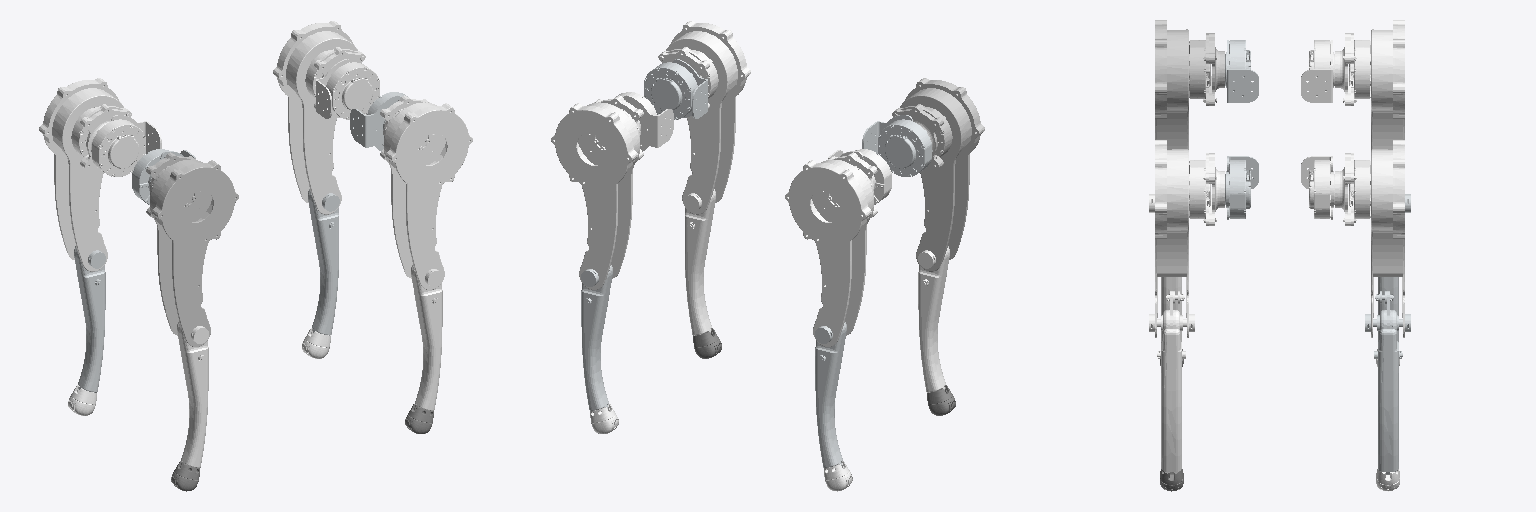
robot.urdf — wblwbl_dog:
<?xml version="1.0" encoding="utf-8"?>
<!-- This URDF was automatically created by SolidWorks to URDF Exporter! Originally created by Stephen Brawner (brawner@gmail.com) 
     Commit Version: 1.6.0-4-g7f85cfe  Build Version: 1.6.7995.38578
     For more information, please see http://wiki.ros.org/sw_urdf_exporter -->
<robot
  name="wblwbl_dog">
  <link
    name="base_link">
    <inertial>
      <origin
        xyz="0.01584611 -0.0003021 0.00277104"
        rpy="0 0 0" />
      <mass
        value="5.85747708" />
      <inertia
        ixx="0.02258183"
        ixy="2.486E-05"
        ixz="-0.00737298"
        iyy="0.10660366"
        iyz="1.041E-05"
        izz="0.11703202" />
    </inertial>
    <visual>
      <origin
        xyz="0 0 0"
        rpy="0 0 0" />
      <geometry>
        <mesh
          filename="package://wblwbl_dog/meshes/base_link.STL" />
      </geometry>
      <material
        name="">
        <color
          rgba="0.75294 0.75294 0.75294 1" />
      </material>
    </visual>
    <collision>
      <origin xyz="0 0 0" rpy="0 0 0" />
      <geometry>
        <box size="0.326 0.24 0.141" />
      </geometry>
    </collision>
  </link>
  <link
    name="RR_hip">
    <inertial>
      <origin
        xyz="-0.05994588 -0.01105683 -5.246E-05"
        rpy="0 0 0" />
      <mass
        value="0.58642659" />
      <inertia
        ixx="0.00039317"
        ixy="-1.51E-06"
        ixz="-1.08E-06"
        iyy="0.00074555"
        iyz="3.9E-07"
        izz="0.00046647" />
    </inertial>
    <visual>
      <origin
        xyz="0 0 0"
        rpy="0 0 0" />
      <geometry>
        <mesh
          filename="package://wblwbl_dog/meshes/RR_hip.STL" />
      </geometry>
      <material
        name="">
        <color
          rgba="0.89804 0.91765 0.92941 1" />
      </material>
    </visual>
  </link>
  <joint
    name="RR_hip_joint"
    type="revolute">
    <origin
      xyz="-0.166597524198868 -0.0600124680627662 -0.00150293992375414"
      rpy="0 0 0" />
    <parent
      link="base_link" />
    <child
      link="RR_hip" />
    <axis
      xyz="1 0 0" />
    <limit
      lower="-0.628318530718"
      upper="0.314159265359"
      effort="23.7"
      velocity="30" />
  </joint>
  <link
    name="RR_thigh">
    <inertial>
      <origin
        xyz="-0.00025108 0.00407954 -0.01846757"
        rpy="0 0 0" />
      <mass
        value="1.61753768" />
      <inertia
        ixx="0.00849013"
        ixy="7.54E-06"
        ixz="-0.00026516"
        iyy="0.00837118"
        iyz="-0.0007094"
        izz="0.00331292" />
    </inertial>
    <visual>
      <origin
        xyz="0 0 0"
        rpy="0 0 0" />
      <geometry>
        <mesh
          filename="package://wblwbl_dog/meshes/RR_thigh.STL" />
      </geometry>
      <material
        name="">
        <color
          rgba="0.84706 0.84706 0.84706 1" />
      </material>
    </visual>
    <collision>
      <origin xyz="0 -0.01145 -0.120006615" rpy="0 0 0" />
      <geometry>
        <box size="0.055 0.055 0.24" />
      </geometry>
    </collision>
  </link>
  <joint
    name="RR_thigh_joint"
    type="revolute">
    <origin
      xyz="-0.0642509054078564 -0.0953879542436499 1.87606477012603E-05"
      rpy="0 0 0" />
    <parent
      link="RR_hip" />
    <child
      link="RR_thigh" />
    <axis
      xyz="0 1 0" />
    <limit
      lower="-1.047197551197"
      upper="2.094395102393"
      effort="23.7"
      velocity="30" />
  </joint>
  <link
    name="RR_calf">
    <inertial>
      <origin
        xyz="0.00619037 0.00215666 -0.06686682"
        rpy="0 0 0" />
      <mass
        value="0.46592672" />
      <inertia
        ixx="0.00323637"
        ixy="9.8E-07"
        ixz="0.00012219"
        iyy="0.00324876"
        iyz="-7.98E-06"
        izz="0.00013713" />
    </inertial>
    <visual>
      <origin
        xyz="0 0 0"
        rpy="0 0 0" />
      <geometry>
        <mesh
          filename="package://wblwbl_dog/meshes/RR_calf.STL" />
      </geometry>
      <material
        name="">
        <color
          rgba="1 1 1 1" />
      </material>
    </visual>
    <collision>
      <origin xyz="-0.002326652 0.000946323 -0.133769394" rpy="0 0 0" />
      <geometry>
        <box size="0.034 0.034 0.262414" />
      </geometry>
    </collision>
  </link>
  <joint
    name="RR_calf_joint"
    type="revolute">
    <origin
      xyz="0 -0.0228999999999976 -0.240013230714059"
      rpy="0 0 0" />
    <parent
      link="RR_thigh" />
    <child
      link="RR_calf" />
    <axis
      xyz="0 1 0" />
    <limit
      lower="-2.775073510671"
      upper="0"
      effort="23.7"
      velocity="30" />
  </joint>
  <link
    name="RR_foot">
    <inertial>
      <origin
        xyz="-0.00614113 0.00019183 -0.01441826"
        rpy="0 0 0" />
      <mass
        value="0.056" />
      <inertia
        ixx="1.151E-05"
        ixy="-5E-08"
        ixz="1.1E-07"
        iyy="1.254E-05"
        iyz="-7E-08"
        izz="1.19E-05" />
    </inertial>
    <visual>
      <origin
        xyz="0 0 0"
        rpy="0 0 0" />
      <geometry>
        <mesh
          filename="package://wblwbl_dog/meshes/RR_foot.STL" />
      </geometry>
      <material
        name="">
        <color
          rgba="0.60392 0.60392 0.60392 1" />
      </material>
    </visual>
    <collision>
      <origin xyz="-0.005338821 0.000165131 -0.011726653" rpy="0 0 0" />
      <geometry>
        <sphere radius="0.023799986" />
      </geometry>
    </collision>
  </link>
  <joint
    name="RR_foot_joint"
    type="fixed">
    <origin
      xyz="-0.00465330444584544 0.00189264586376695 -0.267538787010701"
      rpy="0 0 0" />
    <parent
      link="RR_calf" />
    <child
      link="RR_foot" />
    <axis
      xyz="0 0 0" />
  </joint>
  <link
    name="RL_hip">
    <inertial>
      <origin
        xyz="-0.05994581 0.01106056 -4.797E-05"
        rpy="0 0 0" />
      <mass
        value="0.58642659" />
      <inertia
        ixx="0.00039317"
        ixy="1.51E-06"
        ixz="-1.08E-06"
        iyy="0.00074555"
        iyz="-3.9E-07"
        izz="0.00046647" />
    </inertial>
    <visual>
      <origin
        xyz="0 0 0"
        rpy="0 0 0" />
      <geometry>
        <mesh
          filename="package://wblwbl_dog/meshes/RL_hip.STL" />
      </geometry>
      <material
        name="">
        <color
          rgba="1 1 1 1" />
      </material>
    </visual>
  </link>
  <joint
    name="RL_hip_joint"
    type="revolute">
    <origin
      xyz="-0.166597524198868 0.0600079051697488 -0.00150736560215664"
      rpy="0 0 0" />
    <parent
      link="base_link" />
    <child
      link="RL_hip" />
    <axis
      xyz="1 0 0" />
    <limit
      lower="-0.314159265359"
      upper="0.628318530718"
      effort="23.7"
      velocity="30" />
  </joint>
  <link
    name="RL_thigh">
    <inertial>
      <origin
        xyz="-0.00025671 -0.00407953 -0.01846638"
        rpy="0 0 0" />
      <mass
        value="1.61753764" />
      <inertia
        ixx="0.00849013"
        ixy="-7.54E-06"
        ixz="-0.00026516"
        iyy="0.00837118"
        iyz="0.0007094"
        izz="0.00331292" />
    </inertial>
    <visual>
      <origin
        xyz="0 0 0"
        rpy="0 0 0" />
      <geometry>
        <mesh
          filename="package://wblwbl_dog/meshes/RL_thigh.STL" />
      </geometry>
      <material
        name="">
        <color
          rgba="1 1 1 1" />
      </material>
    </visual>
    <collision>
      <origin xyz="0 0.01145 -0.120006017" rpy="0 0 0" />
      <geometry>
        <box size="0.055 0.055 0.24" />
      </geometry>
    </collision>
  </link>
  <joint
    name="RL_thigh_joint"
    type="revolute">
    <origin
      xyz="-0.0642452502913322 0.0953916725238376 2.19897083813536E-05"
      rpy="0 0 0" />
    <parent
      link="RL_hip" />
    <child
      link="RL_thigh" />
    <axis
      xyz="0 1 0" />
    <limit
      lower="-1.047197551197"
      upper="2.094395102393"
      effort="23.7"
      velocity="30" />
  </joint>
  <link
    name="RL_calf">
    <inertial>
      <origin
        xyz="0.00619037 -0.00215672 -0.06686682"
        rpy="0 0 0" />
      <mass
        value="0.46592672" />
      <inertia
        ixx="0.00323637"
        ixy="-9.8E-07"
        ixz="0.00012219"
        iyy="0.00324876"
        iyz="7.97E-06"
        izz="0.00013713" />
    </inertial>
    <visual>
      <origin
        xyz="0 0 0"
        rpy="0 0 0" />
      <geometry>
        <mesh
          filename="package://wblwbl_dog/meshes/RL_calf.STL" />
      </geometry>
      <material
        name="">
        <color
          rgba="0.89804 0.91765 0.92941 1" />
      </material>
    </visual>
    <collision>
      <origin xyz="-0.002326652 -0.000946323 -0.133769394" rpy="0 0 0" />
      <geometry>
        <box size="0.034 0.034 0.262414" />
      </geometry>
    </collision>
  </link>
  <joint
    name="RL_calf_joint"
    type="revolute">
    <origin
      xyz="0 0.022899999999998 -0.240012034096337"
      rpy="0 0 0" />
    <parent
      link="RL_thigh" />
    <child
      link="RL_calf" />
    <axis
      xyz="0 1 0" />
    <limit
      lower="-2.775073510671"
      upper="0"
      effort="23.7"
      velocity="30" />
  </joint>
  <link
    name="RL_foot">
    <inertial>
      <origin
        xyz="-0.0061412 -0.00019183 -0.01441798"
        rpy="0 0 0" />
      <mass
        value="0.056" />
      <inertia
        ixx="1.151E-05"
        ixy="5E-08"
        ixz="1.1E-07"
        iyy="1.254E-05"
        iyz="7E-08"
        izz="1.19E-05" />
    </inertial>
    <visual>
      <origin
        xyz="0 0 0"
        rpy="0 0 0" />
      <geometry>
        <mesh
          filename="package://wblwbl_dog/meshes/RL_foot.STL" />
      </geometry>
      <material
        name="">
        <color
          rgba="1 1 1 1" />
      </material>
    </visual>
    <collision>
      <origin xyz="-0.005338891 -0.000165131 -0.011726373" rpy="0 0 0" />
      <geometry>
        <sphere radius="0.023799986" />
      </geometry>
    </collision>
  </link>
  <joint
    name="RL_foot_joint"
    type="fixed">
    <origin
      xyz="-0.004653304445846 -0.00189264586376695 -0.267538787010701"
      rpy="0 0 0" />
    <parent
      link="RL_calf" />
    <child
      link="RL_foot" />
    <axis
      xyz="0 0 0" />
  </joint>
  <link
    name="FR_hip">
    <inertial>
      <origin
        xyz="0.060123 -0.011059 -4.911E-05"
        rpy="0 0 0" />
      <mass
        value="0.58627" />
      <inertia
        ixx="0.00039317"
        ixy="6E-08"
        ixz="-7.9E-07"
        iyy="0.00074643"
        iyz="3.9E-07"
        izz="0.00046735" />
    </inertial>
    <visual>
      <origin
        xyz="0 0 0"
        rpy="0 0 0" />
      <geometry>
        <mesh
          filename="package://wblwbl_dog/meshes/FR_hip.STL" />
      </geometry>
      <material
        name="">
        <color
          rgba="0.89804 0.91765 0.92941 1" />
      </material>
    </visual>
  </link>
  <joint
    name="FR_hip_joint"
    type="revolute">
    <origin
      xyz="0.166602475801132 -0.0600102636860087 -0.00150628848434514"
      rpy="0 0 0" />
    <parent
      link="base_link" />
    <child
      link="FR_hip" />
    <axis
      xyz="1 0 0" />
    <limit
      lower="-0.628318530718"
      upper="0.314159265359"
      effort="23.7"
      velocity="30" />
  </joint>
  <link
    name="FR_thigh">
    <inertial>
      <origin
        xyz="-0.00027349 0.00407954 -0.01847084"
        rpy="0 0 0" />
      <mass
        value="1.61753768" />
      <inertia
        ixx="0.00848978"
        ixy="7.33E-06"
        ixz="-0.00026395"
        iyy="0.00837097"
        iyz="-0.00070943"
        izz="0.00331306" />
    </inertial>
    <visual>
      <origin
        xyz="0 0 0"
        rpy="0 0 0" />
      <geometry>
        <mesh
          filename="package://wblwbl_dog/meshes/FR_thigh.STL" />
      </geometry>
      <material
        name="">
        <color
          rgba="1 1 1 1" />
      </material>
    </visual>
    <collision>
      <origin xyz="-0.003713474 -0.00895 -0.120006017" rpy="0 0 0" />
      <geometry>
        <box size="0.055 0.055 0.24" />
      </geometry>
    </collision>
  </link>
  <joint
    name="FR_thigh_joint"
    type="revolute">
    <origin
      xyz="0.0642493196996376 -0.095390158620402 2.21092082921814E-05"
      rpy="0 0 0" />
    <parent
      link="FR_hip" />
    <child
      link="FR_thigh" />
    <axis
      xyz="0 1 0" />
    <limit
      lower="-1.047197551197"
      upper="2.094395102393"
      effort="23.7"
      velocity="30" />
  </joint>
  <link
    name="FR_calf">
    <inertial>
      <origin
        xyz="0.01361308 -0.00284334 -0.066869062143977"
        rpy="0 0 0" />
      <mass
        value="0.46592672" />
      <inertia
        ixx="0.00323633"
        ixy="9.9E-07"
        ixz="0.00012232"
        iyy="0.00324875"
        iyz="-7.97E-06"
        izz="0.00013716" />
    </inertial>
    <visual>
      <origin
        xyz="0 0 0.042352417856023"
        rpy="0 0 0" />
      <geometry>
        <mesh
          filename="package://wblwbl_dog/meshes/FR_calf.STL" />
      </geometry>
      <material
        name="">
        <color
          rgba="1 1 1 1" />
      </material>
    </visual>
    <collision>
      <origin xyz="0.002407328 0.00025 -0.131263924" rpy="0 0 0" />
      <geometry>
        <box size="0.034 0.034 0.262414" />
      </geometry>
    </collision>
  </link>
  <joint
    name="FR_calf_joint"
    type="revolute">
    <origin
      xyz="-0.0074269484586505 -0.0179000000000001 -0.240012034096336"
      rpy="0 0 0" />
    <parent
      link="FR_thigh" />
    <child
      link="FR_calf" />
    <axis
      xyz="0 1 0" />
    <limit
      lower="-2.775073510671"
      upper="0"
      effort="23.7"
      velocity="30" />
  </joint>
  <link
    name="FR_foot">
    <inertial>
      <origin
        xyz="-0.0081453 -0.003308 -0.019426"
        rpy="0 0 0" />
      <mass
        value="0.056" />
      <inertia
        ixx="1.151E-05"
        ixy="-5E-08"
        ixz="1.1E-07"
        iyy="1.254E-05"
        iyz="-7E-08"
        izz="1.19E-05" />
    </inertial>
    <visual>
      <origin
        xyz="0 0 0"
        rpy="0 0 0" />
      <geometry>
        <mesh
          filename="package://wblwbl_dog/meshes/FR_foot.STL" />
      </geometry>
      <material
        name="">
        <color
          rgba="0.60392 0.60392 0.60392 1" />
      </material>
    </visual>
    <collision>
      <origin xyz="-0.007342991 -0.003334699 -0.016734393" rpy="0 0 0" />
      <geometry>
        <sphere radius="0.023799986" />
      </geometry>
    </collision>
  </link>
  <joint
    name="FR_foot_joint"
    type="fixed">
    <origin
      xyz="0.00481465547766746 0.000499999999998502 -0.262527848704746"
      rpy="0 0 0" />
    <parent
      link="FR_calf" />
    <child
      link="FR_foot" />
    <axis
      xyz="0 0 0" />
  </joint>
  <link
    name="FL_hip">
    <inertial>
      <origin
        xyz="0.060123 0.011056 -5.421E-05"
        rpy="0 0 0" />
      <mass
        value="0.58643" />
      <inertia
        ixx="0.00039317"
        ixy="-6E-08"
        ixz="-7.9E-07"
        iyy="0.00074642"
        iyz="-3.9E-07"
        izz="0.00046734" />
    </inertial>
    <visual>
      <origin
        xyz="0 0 0"
        rpy="0 0 0" />
      <geometry>
        <mesh
          filename="package://wblwbl_dog/meshes/FL_hip.STL" />
      </geometry>
      <material
        name="">
        <color
          rgba="1 1 1 1" />
      </material>
    </visual>
  </link>
  <joint
    name="FL_hip_joint"
    type="revolute">
    <origin
      xyz="0.166602475801132 0.0600120143599638 -0.00150112353289886"
      rpy="0 0 0" />
    <parent
      link="base_link" />
    <child
      link="FL_hip" />
    <axis
      xyz="1 0 0" />
    <limit
      lower="-0.314159265359"
      upper="0.628318530718"
      effort="23.7"
      velocity="30" />
  </joint>
  <link
    name="FL_thigh">
    <inertial>
      <origin
        xyz="-0.00027617 -0.00408799 -0.01849477"
        rpy="0 0 0" />
      <mass
        value="1.6175" />
      <inertia
        ixx="0.00848702"
        ixy="-7.43E-06"
        ixz="-0.00026425"
        iyy="0.00836845"
        iyz="0.00071026"
        izz="0.00331274" />
    </inertial>
    <visual>
      <origin
        xyz="0 0 0"
        rpy="0 0 0" />
      <geometry>
        <mesh
          filename="package://wblwbl_dog/meshes/FL_thigh.STL" />
      </geometry>
      <material
        name="">
        <color
          rgba="1 1 1 1" />
      </material>
    </visual>
    <collision>
      <origin xyz="0 0.01145 -0.120006017" rpy="0 0 0" />
      <geometry>
        <box size="0.055 0.055 0.24" />
      </geometry>
    </collision>
  </link>
  <joint
    name="FL_thigh_joint"
    type="revolute">
    <origin
      xyz="0.0642549748161616 0.0953875633336262 1.57476391230704E-05"
      rpy="0 0 0" />
    <parent
      link="FL_hip" />
    <child
      link="FL_thigh" />
    <axis
      xyz="0 1 0" />
    <limit
      lower="-1.047197551197"
      upper="2.094395102393"
      effort="23.7"
      velocity="30" />
  </joint>
  <link
    name="FL_calf">
    <inertial>
      <origin
        xyz="0.00618534 -0.00215672 -0.06686787"
        rpy="0 0 0" />
      <mass
        value="0.46592672" />
      <inertia
        ixx="0.00323633"
        ixy="-9.9E-07"
        ixz="0.00012232"
        iyy="0.00324875"
        iyz="7.96E-06"
        izz="0.00013716" />
    </inertial>
    <visual>
      <origin
        xyz="0 0 0"
        rpy="0 0 0" />
      <geometry>
        <mesh
          filename="package://wblwbl_dog/meshes/FL_calf.STL" />
      </geometry>
      <material
        name="">
        <color
          rgba="0.89804 0.91765 0.92941 1" />
      </material>
    </visual>
    <collision>
      <origin xyz="-0.002322748 -0.000999996 -0.133761044" rpy="0 0 0" />
      <geometry>
        <box size="0.034 0.034 0.262414" />
      </geometry>
    </collision>
  </link>
  <joint
    name="FL_calf_joint"
    type="revolute">
    <origin
      xyz="0 0.0229000000000002 -0.240012034096336"
      rpy="0 0 0" />
    <parent
      link="FL_thigh" />
    <child
      link="FL_calf" />
    <axis
      xyz="0 1 0" />
    <limit
      lower="-2.775073510671"
      upper="0"
      effort="23.7"
      velocity="30" />
  </joint>
  <link
    name="FL_foot">
    <inertial>
      <origin
        xyz="-0.0061199 -0.00019183 -0.01443"
        rpy="0 0 0" />
      <mass
        value="0.056" />
      <inertia
        ixx="1.151E-05"
        ixy="5E-08"
        ixz="1.1E-07"
        iyy="1.254E-05"
        iyz="7E-08"
        izz="1.19E-05" />
    </inertial>
    <visual>
      <origin
        xyz="0 0 0"
        rpy="0 0 0" />
      <geometry>
        <mesh
          filename="package://wblwbl_dog/meshes/FL_foot.STL" />
      </geometry>
      <material
        name="">
        <color
          rgba="1 1 1 1" />
      </material>
    </visual>
    <collision>
      <origin xyz="-0.005317591 -0.000165131 -0.011738393" rpy="0 0 0" />
      <geometry>
        <sphere radius="0.023799986" />
      </geometry>
    </collision>
  </link>
  <joint
    name="FL_foot_joint"
    type="fixed">
    <origin
      xyz="-0.00464549524424704 -0.00199999112831351 -0.267522087098998"
      rpy="0 0 0" />
    <parent
      link="FL_calf" />
    <child
      link="FL_foot" />
    <axis
      xyz="0 0 0" />
  </joint>
</robot>

--- What the picture shows (computed from the rendered views, not written in the file) ---
Views: 3 orthographic renders of the robot side by side, from view 1: azimuth 30°, elevation 25°; view 2: azimuth 150°, elevation 25°; view 3: azimuth 270°, elevation 25°.
Robot: wblwbl_dog — 17 links, 16 joints (12 revolute, 4 fixed); root link base_link; default pose: every joint at zero.
Links seen in each view (by area): view 1: RR_thigh, FR_thigh, RL_thigh, FL_thigh, RR_calf, RL_calf, FR_calf, RL_hip, FL_calf, FL_hip, FR_hip, RR_hip (+4 smaller); view 2: RL_thigh, FL_thigh, RR_thigh, FR_thigh, RL_calf, RR_calf, FL_calf, RR_hip, FR_calf, FR_hip, FL_hip, RL_hip (+4 smaller); view 3: FR_thigh, FL_thigh, RR_thigh, RL_thigh, FR_calf, FL_calf, FR_hip, FL_hip, RR_hip, RL_hip, RR_calf, RL_calf.
Link boxes in pixels (x1,y1,x2,y2): RR_thigh: (146, 152, 238, 346); FR_thigh: (380, 95, 472, 289); RL_thigh: (39, 78, 131, 271); FL_thigh: (273, 21, 365, 214); RR_calf: (177, 322, 208, 467); RL_calf: (74, 246, 105, 392); FR_calf: (411, 265, 442, 410); RL_hip: (91, 115, 161, 176); FL_calf: (308, 189, 339, 335); FL_hip: (316, 59, 379, 119); FR_hip: (350, 92, 407, 151); RR_hip: (132, 149, 195, 204); RL_thigh: (785, 152, 877, 346); FL_thigh: (551, 95, 643, 289); RR_thigh: (892, 78, 984, 271); FR_thigh: (658, 21, 750, 214); RL_calf: (815, 322, 846, 467); RR_calf: (918, 246, 949, 392); FL_calf: (581, 265, 612, 410); RR_hip: (862, 115, 932, 176); FR_calf: (684, 189, 715, 335); FR_hip: (644, 59, 707, 119); FL_hip: (616, 92, 673, 151); RL_hip: (828, 149, 891, 204); FR_thigh: (1155, 140, 1224, 337); FL_thigh: (1335, 140, 1404, 337); RR_thigh: (1155, 20, 1224, 149); RL_thigh: (1335, 20, 1404, 149); FR_calf: (1149, 291, 1194, 474); FL_calf: (1365, 291, 1410, 474); FR_hip: (1225, 156, 1258, 219); FL_hip: (1301, 156, 1334, 219); RR_hip: (1225, 40, 1258, 102); RL_hip: (1301, 40, 1334, 102); RR_calf: (1149, 194, 1181, 341); RL_calf: (1378, 194, 1410, 341).
Bounding box of the posed robot: 0.6223 × 0.4276 × 0.6161 m (x, y, z).
Meshes: 17 distinct files referenced, 16 mesh visuals loaded (16 binary STL); not drawn: 1 (reference not matched to a file when rendering).
